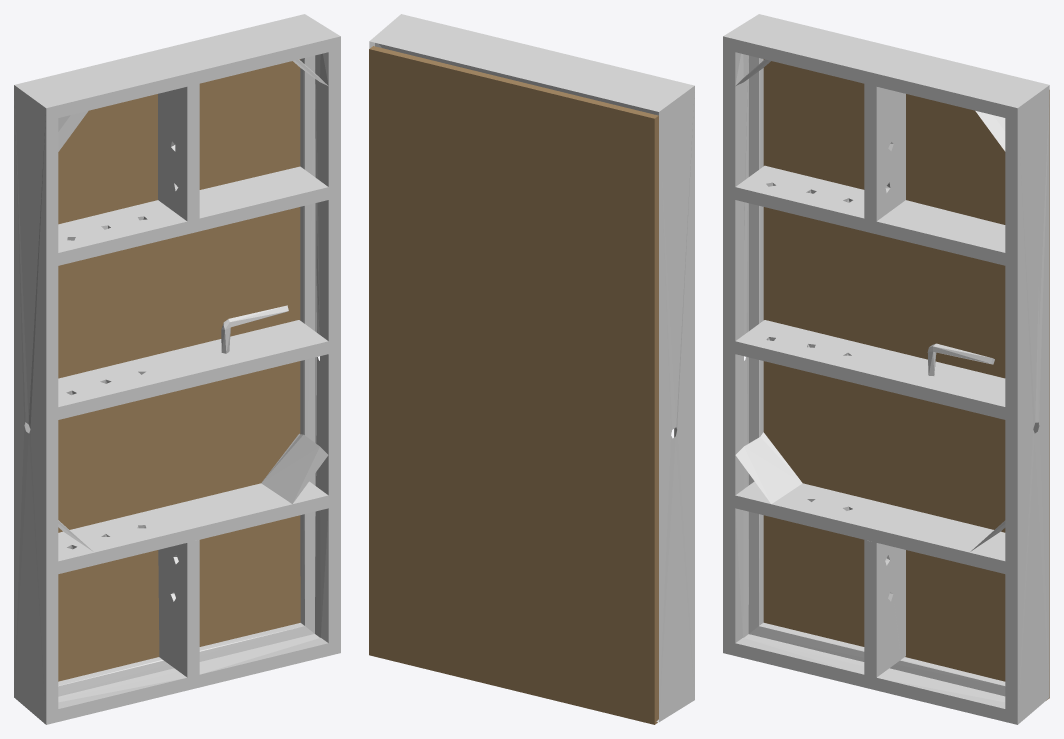
3 renders of one model, left to right at view 1: azimuth 30°, elevation 25°; view 2: azimuth 150°, elevation 25°; view 3: azimuth 330°, elevation 25°, orthographic.
Visible parts, largest first — view 1: 12604213; view 2: 12604213; view 3: 12604213.
Boxes of the visible parts, x1,y1,x2,y2 form: 12604213: (14,14,340,724); 12604213: (369,14,694,724); 12604213: (723,14,1049,724).
Bounding box in the file's own units: 0.6 × 1.2 × 0.1254.
